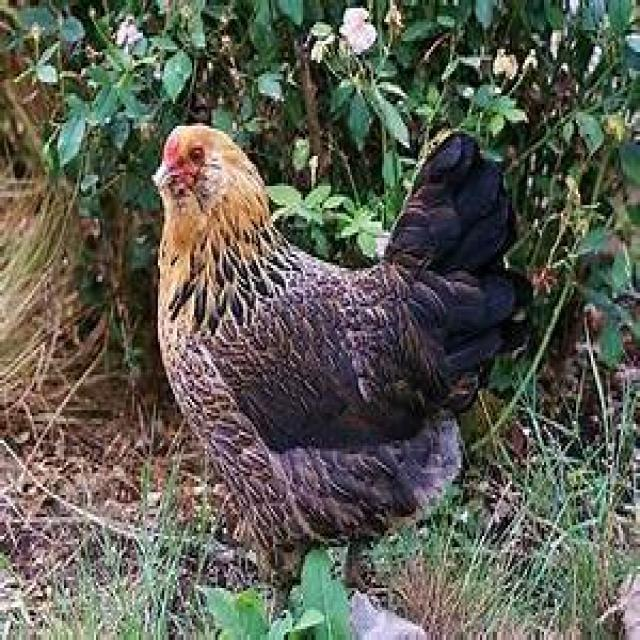hen: (151, 123, 535, 607)
